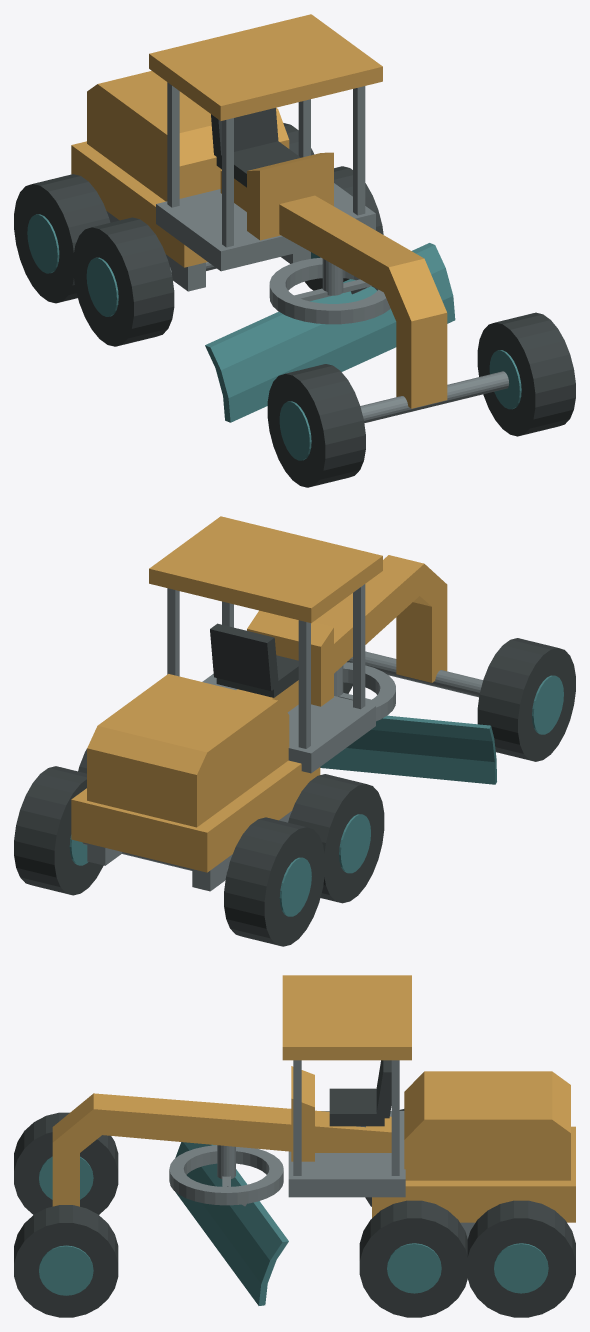
The picture shows the model from 3 angles, top to bottom: view 1: azimuth 30°, elevation 25°; view 2: azimuth 150°, elevation 25°; view 3: azimuth 270°, elevation 25°; orthographic projection. The views are drawn at different scales.
Parts seen in each view (by area): view 1: WholeStationRoof, WholeHighArchedFrontMainBeam, WholeAngledCurvedMoldboard, WholeSlopedRearEngineCover, WholeLeftRearForwardTyre, WholeLeftFrontTyre, WholeRightFrontTyre, WholeLeftRearAftTyre, WholeElevatedStationFloor, WholeFrontBlankConsole, WholeRearPowerChassis, WholeCentralBladeCircle (+14 smaller); view 2: WholeSlopedRearEngineCover, WholeStationRoof, WholeRearPowerChassis, WholeHighArchedFrontMainBeam, WholeLeftRearAftTyre, WholeAngledCurvedMoldboard, WholeLeftFrontTyre, WholeRightRearAftTyre, WholeLeftRearForwardTyre, WholeElevatedStationFloor, WholeSeatBack, WholeFrontBlankConsole (+10 smaller); view 3: WholeSlopedRearEngineCover, WholeHighArchedFrontMainBeam, WholeStationRoof, WholeRightRearAftTyre, WholeRightRearForwardTyre, WholeRightFrontTyre, WholeAngledCurvedMoldboard, WholeRearPowerChassis, WholeElevatedStationFloor, WholeLeftFrontTyre, WholeCentralBladeCircle, WholeRightFrontHub (+9 smaller).
Boxes of the visible parts, bbox=[...] form: WholeStationRoof: bbox=[149, 14, 382, 120]; WholeHighArchedFrontMainBeam: bbox=[220, 170, 447, 408]; WholeAngledCurvedMoldboard: bbox=[205, 243, 455, 422]; WholeSlopedRearEngineCover: bbox=[87, 71, 289, 201]; WholeLeftRearForwardTyre: bbox=[73, 217, 174, 346]; WholeLeftFrontTyre: bbox=[267, 364, 365, 487]; WholeRightFrontTyre: bbox=[477, 312, 575, 436]; WholeLeftRearAftTyre: bbox=[14, 174, 110, 303]; WholeElevatedStationFloor: bbox=[156, 183, 375, 271]; WholeFrontBlankConsole: bbox=[247, 152, 333, 240]; WholeRearPowerChassis: bbox=[71, 141, 207, 267]; WholeCentralBladeCircle: bbox=[269, 257, 390, 324]; WholeSlopedRearEngineCover: bbox=[87, 674, 289, 827]; WholeStationRoof: bbox=[149, 516, 382, 623]; WholeRearPowerChassis: bbox=[71, 760, 320, 872]; WholeHighArchedFrontMainBeam: bbox=[236, 555, 447, 712]; WholeLeftRearAftTyre: bbox=[224, 817, 325, 946]; WholeAngledCurvedMoldboard: bbox=[320, 715, 496, 784]; WholeLeftFrontTyre: bbox=[477, 638, 575, 761]; WholeRightRearAftTyre: bbox=[14, 766, 103, 895]; WholeLeftRearForwardTyre: bbox=[288, 774, 384, 903]; WholeElevatedStationFloor: bbox=[202, 674, 375, 773]; WholeSeatBack: bbox=[210, 623, 278, 690]; WholeFrontBlankConsole: bbox=[247, 610, 333, 706]; WholeSlopedRearEngineCover: bbox=[404, 1071, 570, 1180]; WholeHighArchedFrontMainBeam: bbox=[52, 1093, 391, 1206]; WholeStationRoof: bbox=[282, 975, 411, 1060]; WholeRightRearAftTyre: bbox=[466, 1200, 575, 1317]; WholeRightRearForwardTyre: bbox=[359, 1200, 468, 1317]; WholeRightFrontTyre: bbox=[14, 1205, 118, 1317]; WholeAngledCurvedMoldboard: bbox=[175, 1142, 288, 1305]; WholeRearPowerChassis: bbox=[372, 1126, 575, 1222]; WholeElevatedStationFloor: bbox=[288, 1111, 405, 1197]; WholeLeftFrontTyre: bbox=[14, 1112, 118, 1214]; WholeCentralBladeCircle: bbox=[169, 1145, 283, 1205]; WholeRightFrontHub: bbox=[39, 1245, 93, 1295].
Size of the model in its own units: 2.37 by 2.23 by 4.52.
